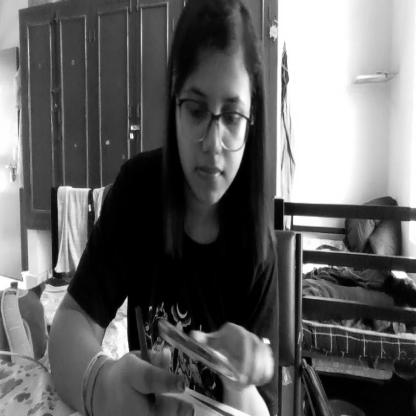Normal: (164, 0, 268, 211)
